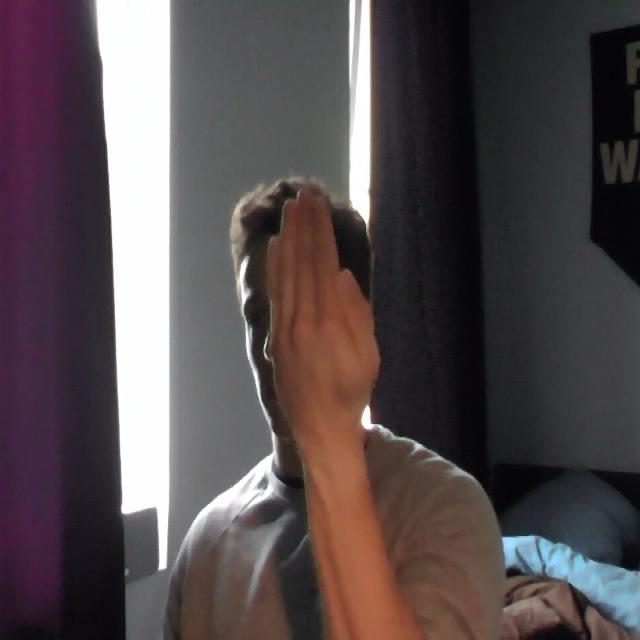forward: (246, 186, 392, 440)
